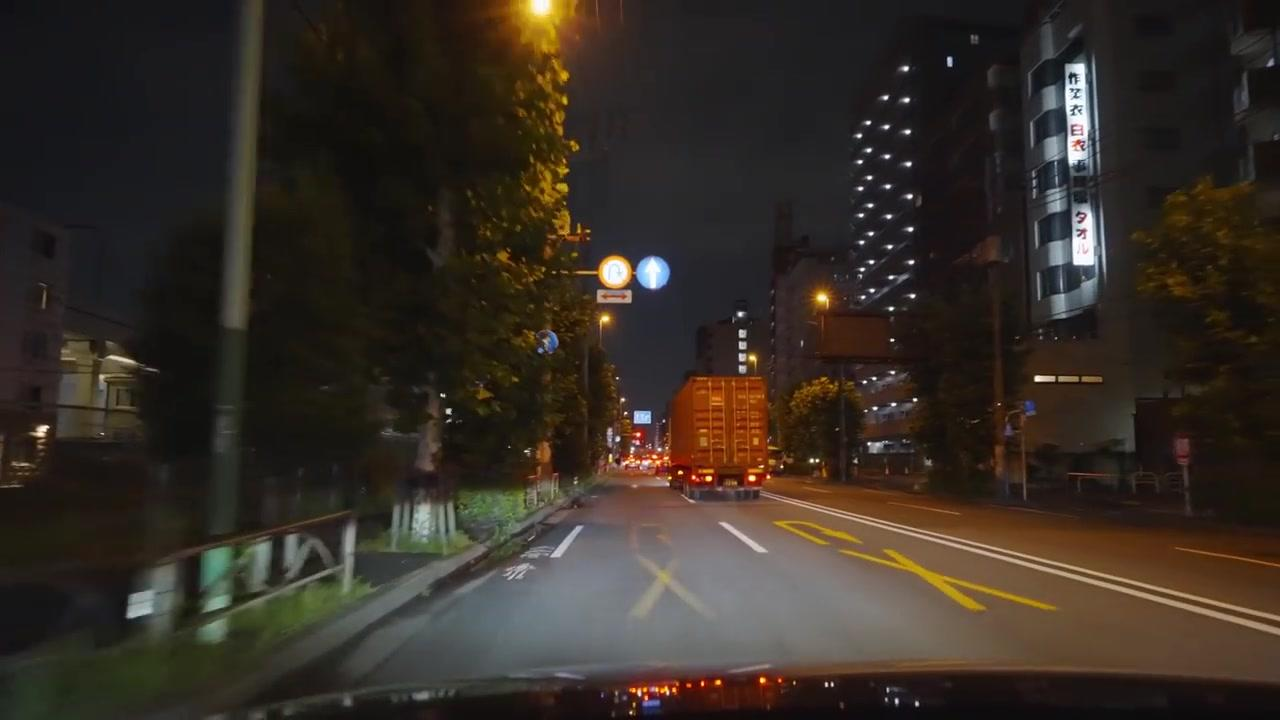giraffe: (389, 390, 456, 547)
stop sign: (1174, 433, 1192, 465)
traffic light: (597, 254, 633, 290)
truck: (666, 373, 770, 502)
